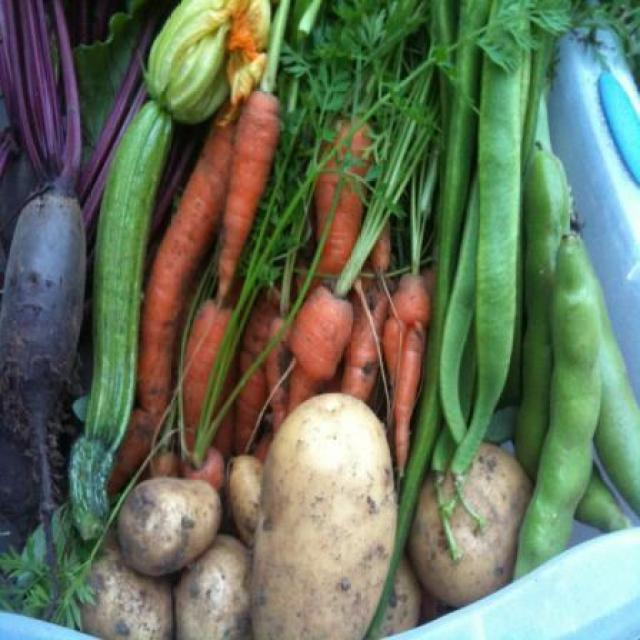Zucchini: (50, 54, 179, 584)
